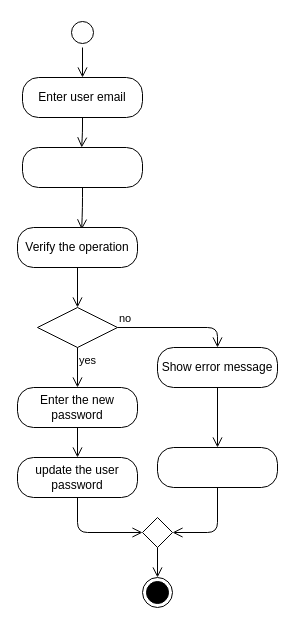
Some shapes in this 295 by 625 pixel diagram are drawn without their labels. The shapes that lost their labels are listed below. From the top down, each one's centre as x and y in pixels, then its label:
the point at 82,167: Send verification email
the point at 217,467: Redirect to login
